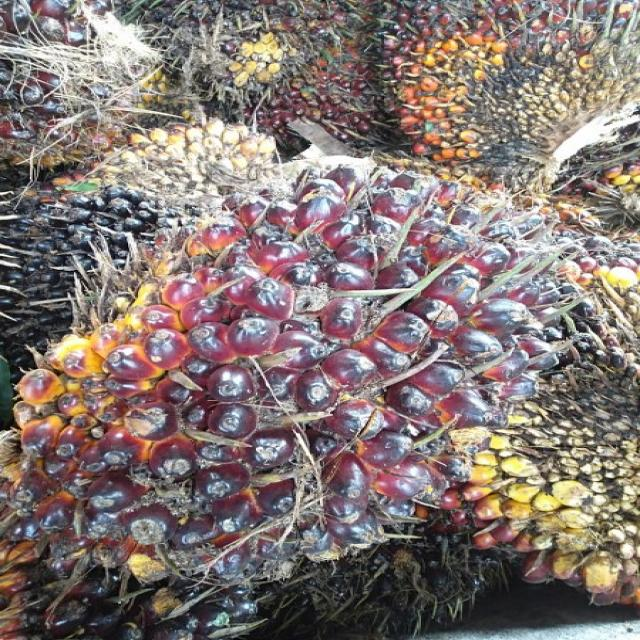fraksi 1: (24, 117, 596, 617)
